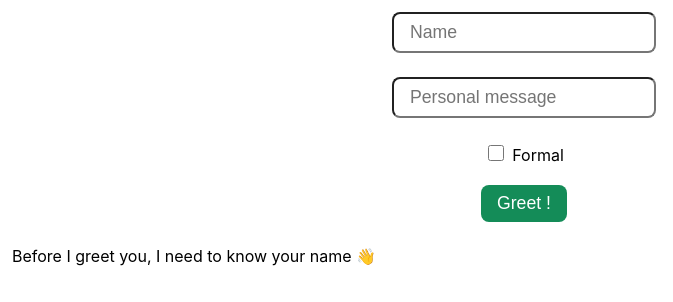
Test case: components/AdvancedGreeter › should handle form submission correctly
The image size is (673, 302).
In the field named "name-input": (524, 32) [392,12,656,53], type "John"
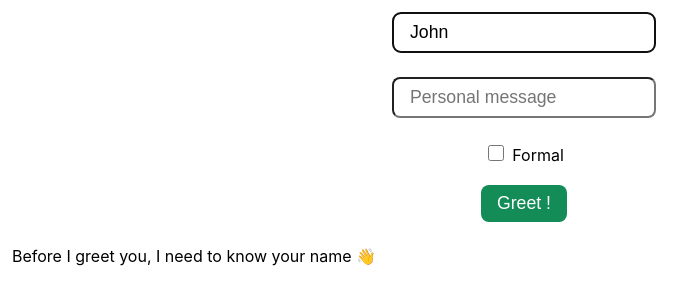
Click the button named "submit-button": (524, 204) [481,185,567,222]
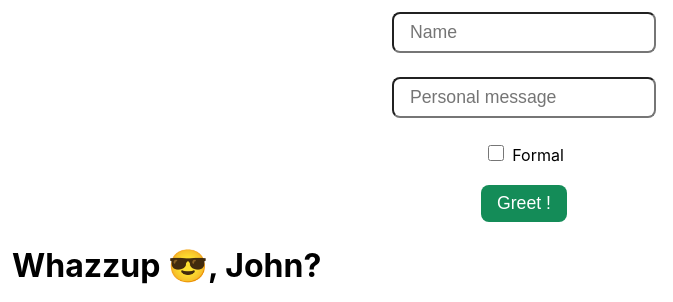
Now the heading "Whazzup 😎, John?" is shown, box [12,246,321,285]
